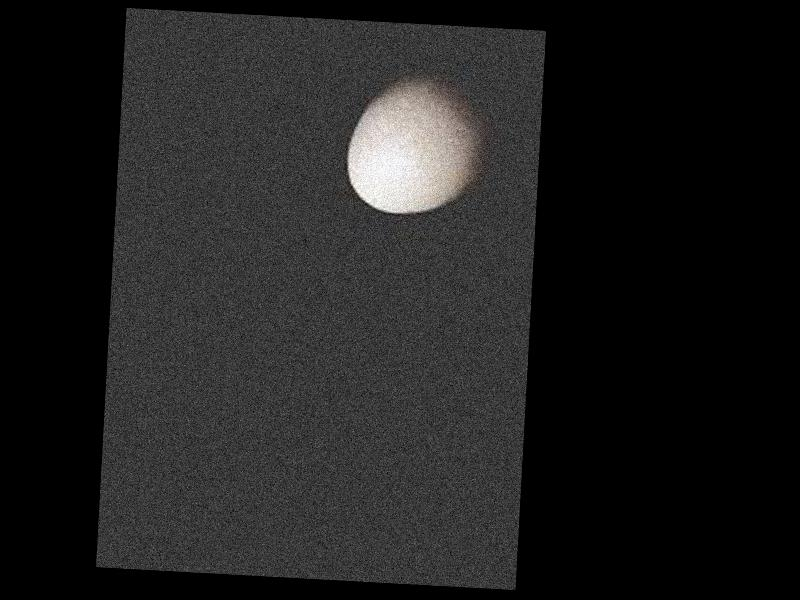Eggs: (343, 67, 489, 217)
